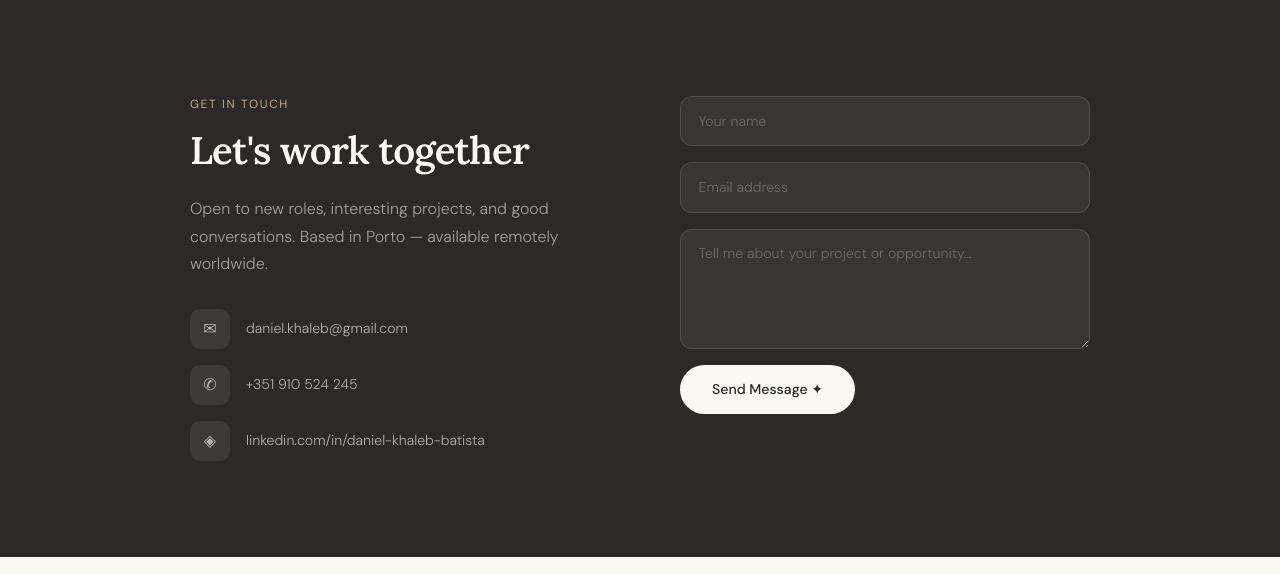
Test: Contact › shows success message after successful submission
In the field with placeholder "Your name": (885, 121) [680, 96, 1090, 146], type "John"
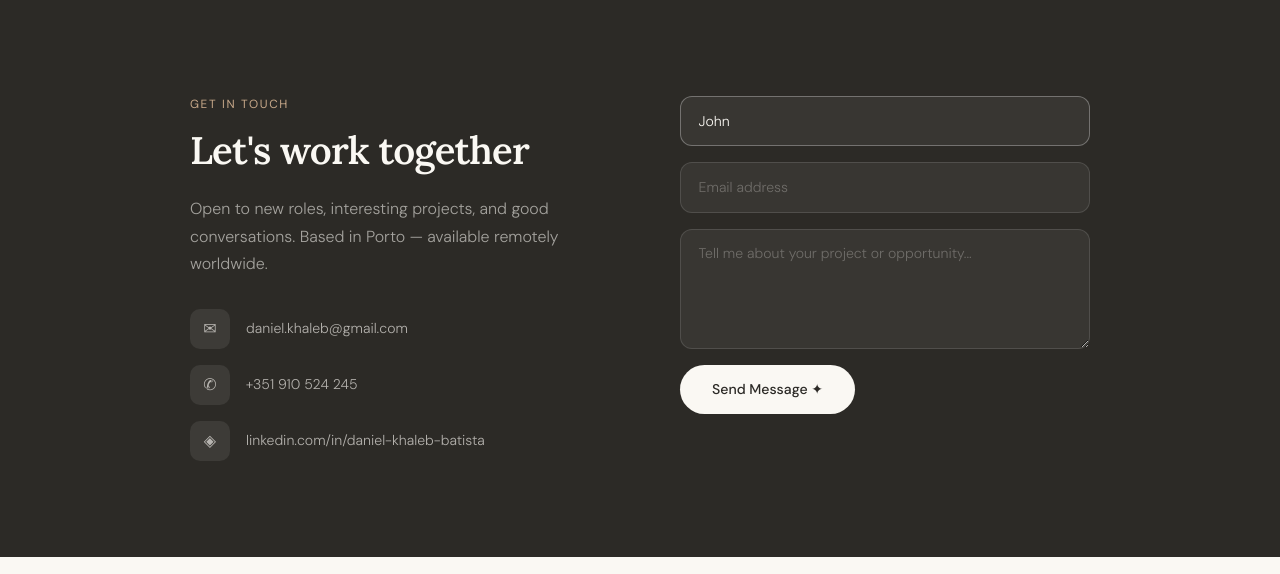
In the field with placeholder "Email address": (885, 187) [680, 162, 1090, 213], type "john@example.com"
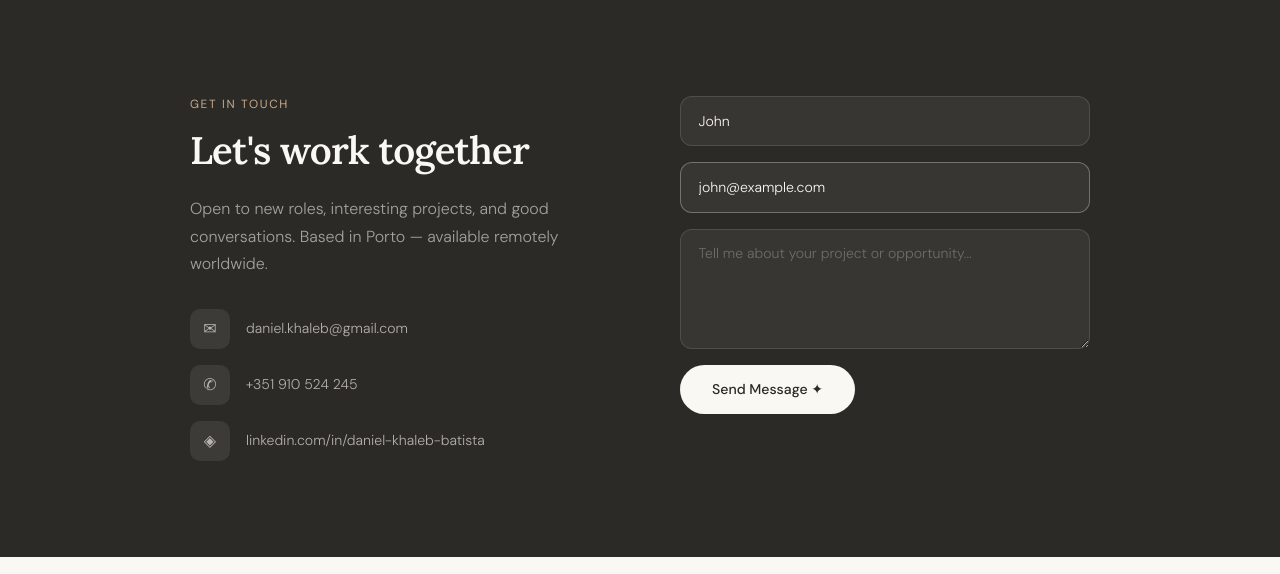
In the text box with placeholder "Tell me about your project or opportunity...": (885, 289) [680, 229, 1090, 349], type "Hello!"
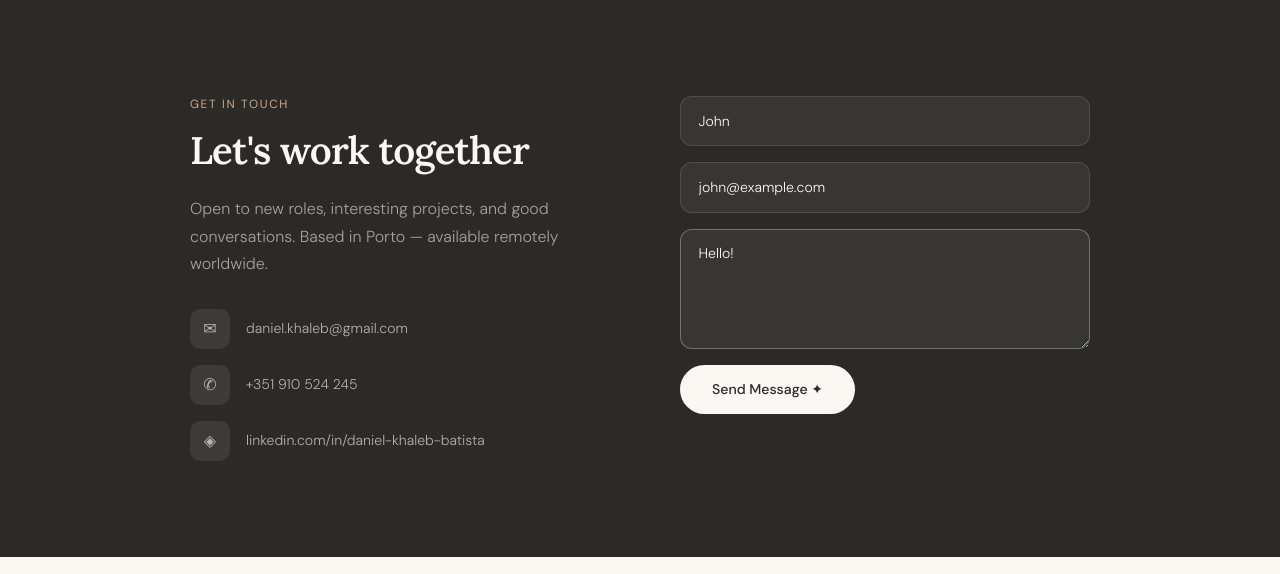
Click the button "Send Message ✦": (768, 390) [680, 365, 855, 414]
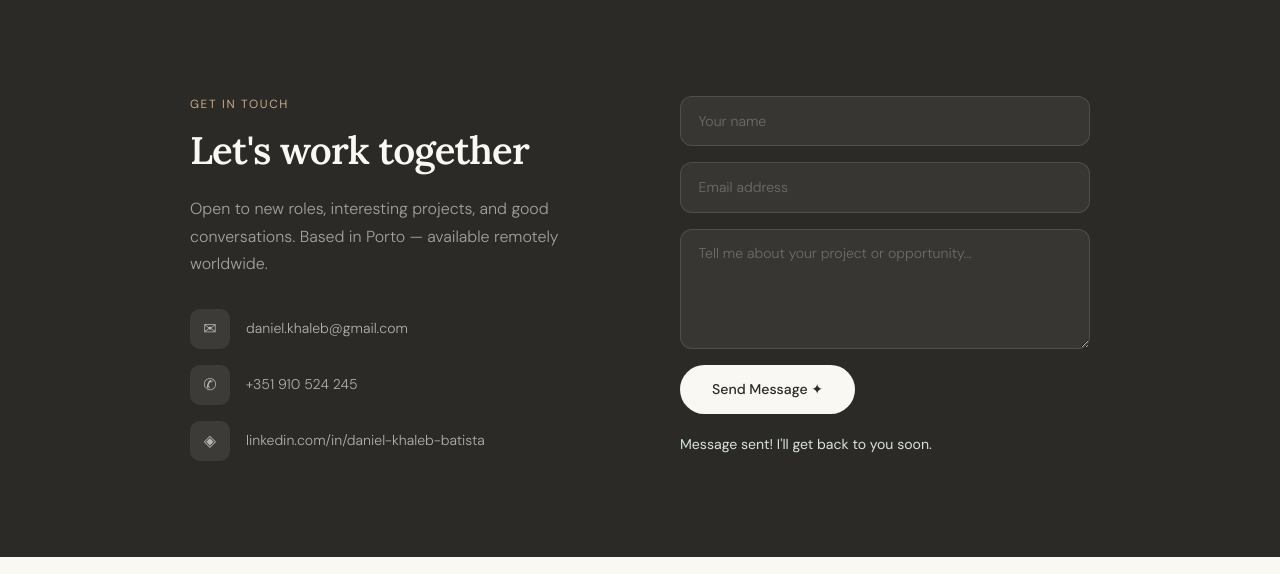
Expected: the text "Message sent! I'll get back to you soon." is shown, [680, 436, 932, 454]
